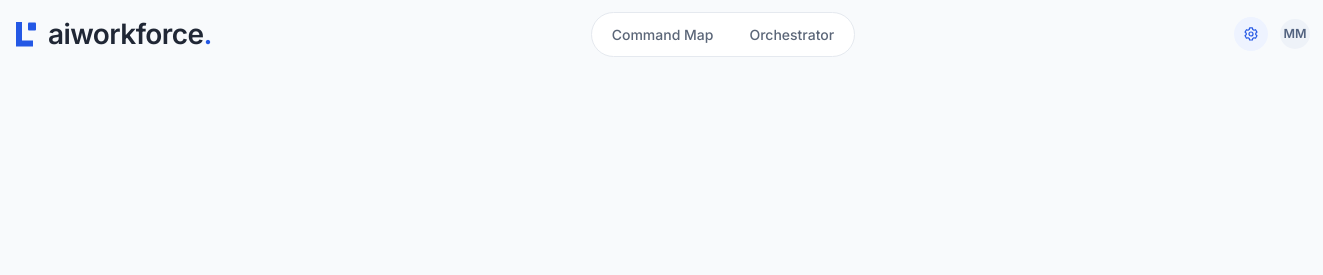
Team room in the menu › is offered under Settings and more, with its note, to a role that can read runs
Click the button named "Settings and more".
click(1251, 34)  # box x1=1234 y1=17 x2=1268 y2=51
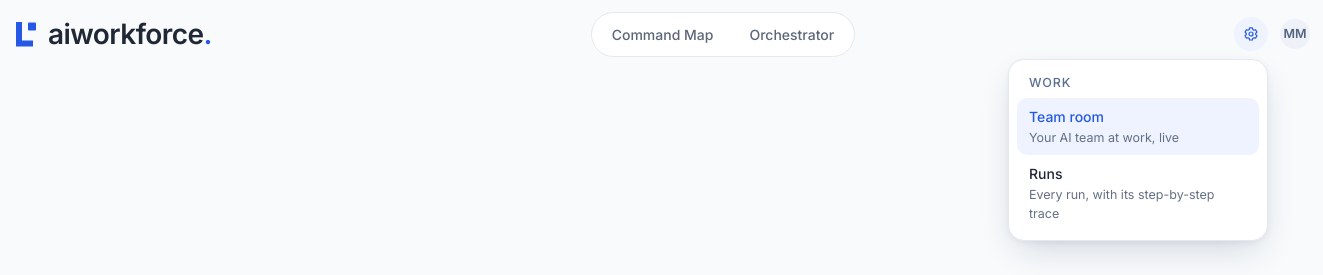
Now the link "Team room Your AI team at work, live" is shown, box x1=1017 y1=98 x2=1259 y2=155
